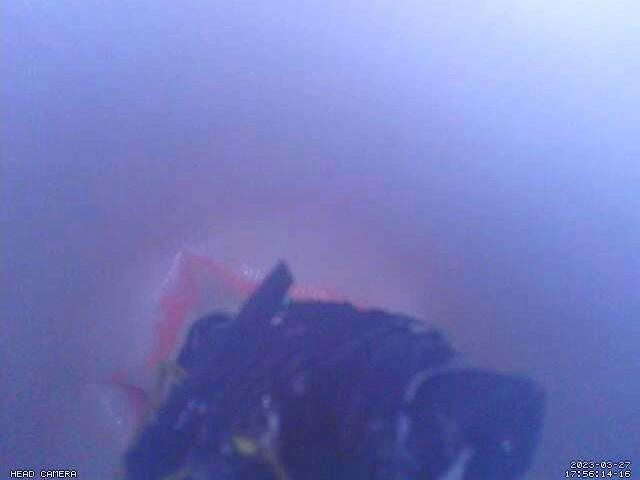head: (143, 249, 363, 372)
